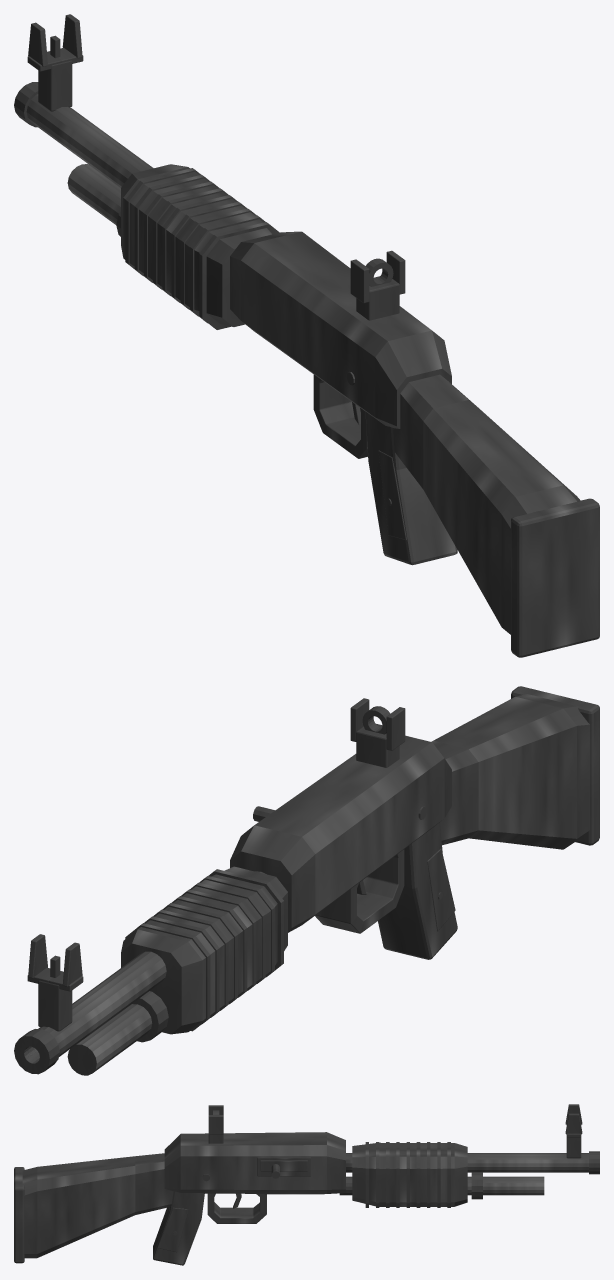
The picture shows the model from 3 angles, top to bottom: view 1: azimuth 30°, elevation 25°; view 2: azimuth 150°, elevation 25°; view 3: azimuth 270°, elevation 25°; orthographic projection. The views are drawn at different scales.
Parts seen in each view (by area): view 1: m3_Body, m3_Pump; view 2: m3_Body, m3_Pump; view 3: m3_Body, m3_Pump, m3_Bolt.
Boxes of the visible parts, x1=… form: m3_Body: x1=14, y1=14, x2=599, y2=657; m3_Pump: x1=121, y1=164, x2=279, y2=329; m3_Body: x1=14, y1=686, x2=599, y2=1075; m3_Pump: x1=121, y1=866, x2=287, y2=1034; m3_Body: x1=14, y1=1104, x2=599, y2=1265; m3_Pump: x1=352, y1=1142, x2=467, y2=1207; m3_Bolt: x1=260, y1=1160, x2=307, y2=1178.
Size of the model in its own units: 0.1635 by 0.389 by 1.38.
3 materials, 3 textured.
